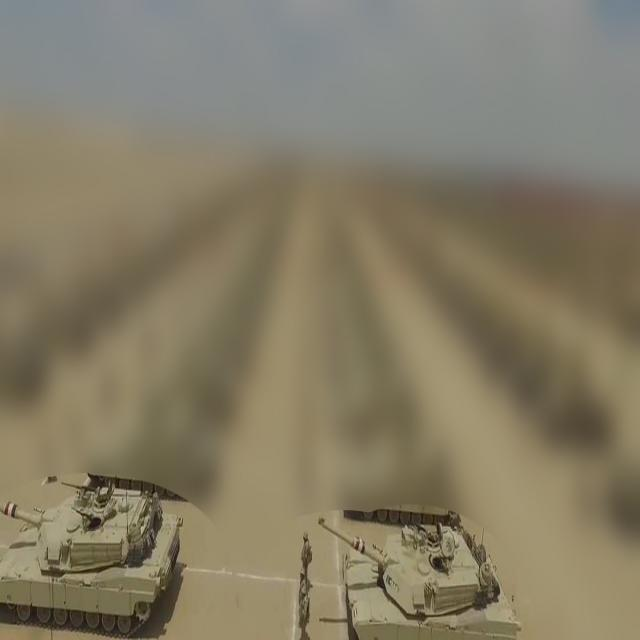tank: (2, 470, 193, 638), (296, 503, 522, 640)
